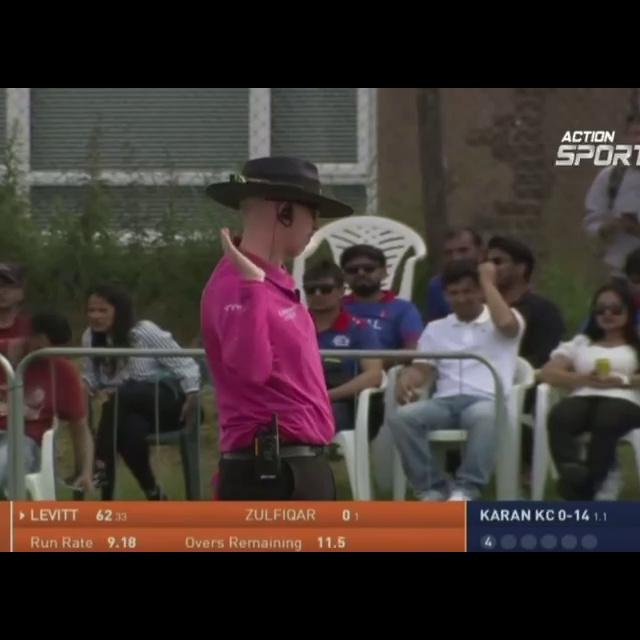umpire: (135, 106, 454, 497)
